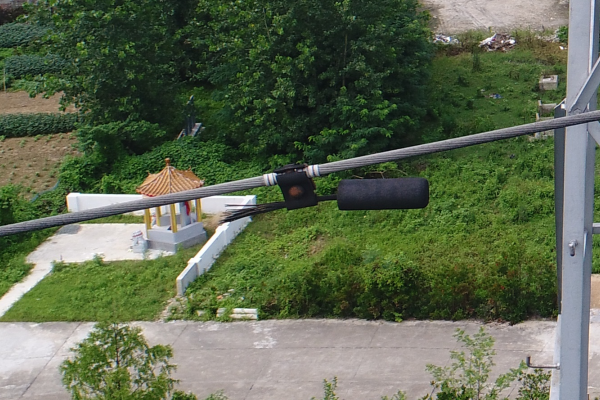damper_defect: (207, 159, 433, 226)
